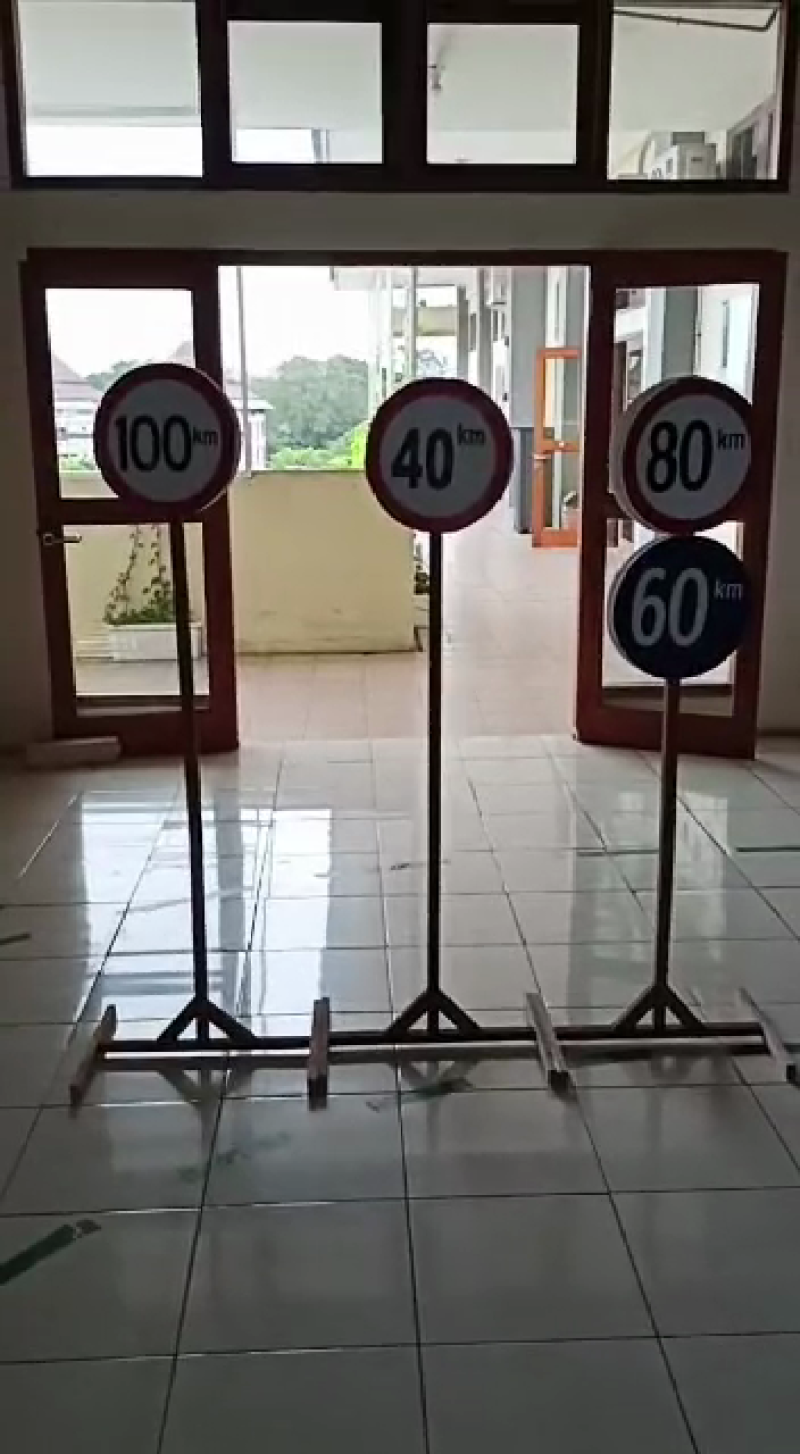batas maksimal 100kmperjam: (98, 344, 248, 505)
batas maksimal 40kmperjam: (353, 372, 524, 544)
batas maksimal 80kmperjam minimal 60kmperjam: (600, 374, 768, 683)
